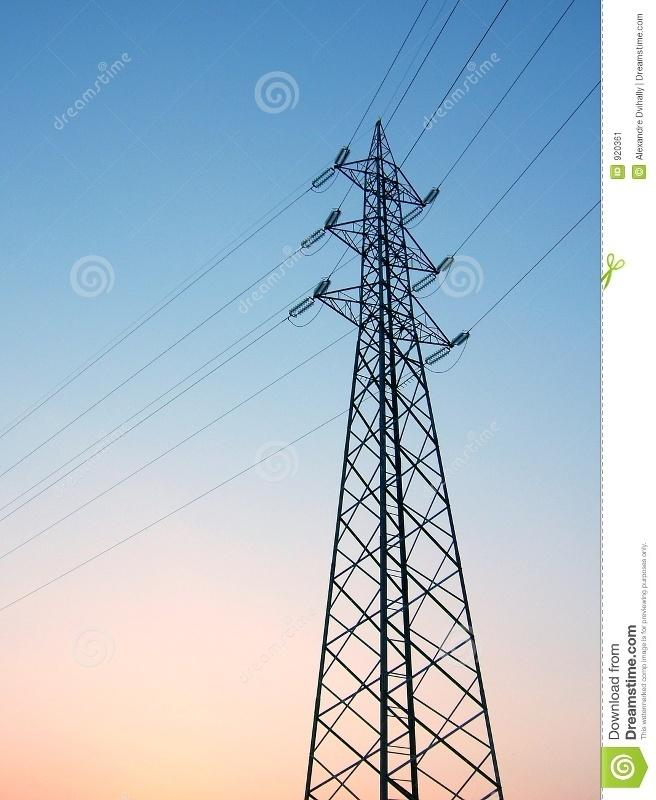power_tower: (275, 112, 510, 735)
